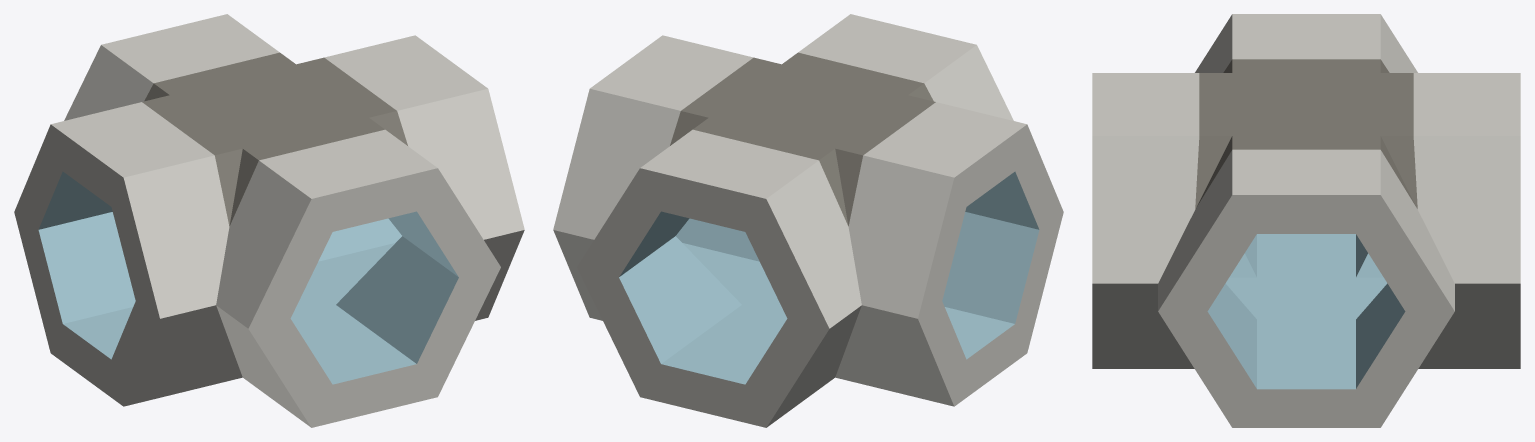
File: cc0-pipe-cross-lod0.glb
The picture shows the model from 3 angles, left to right: view 1: azimuth 30°, elevation 25°; view 2: azimuth 150°, elevation 25°; view 3: azimuth 270°, elevation 25°; orthographic projection.
Visible parts, largest first — view 1: part_0; view 2: part_0; view 3: part_0.
Boxes of the visible parts, x1,y1,x2,y2 form: part_0: [14, 14, 524, 427]; part_0: [553, 14, 1063, 427]; part_0: [1092, 14, 1520, 427].
Bounding box in the file's own units: 1 × 0.6 × 1.
